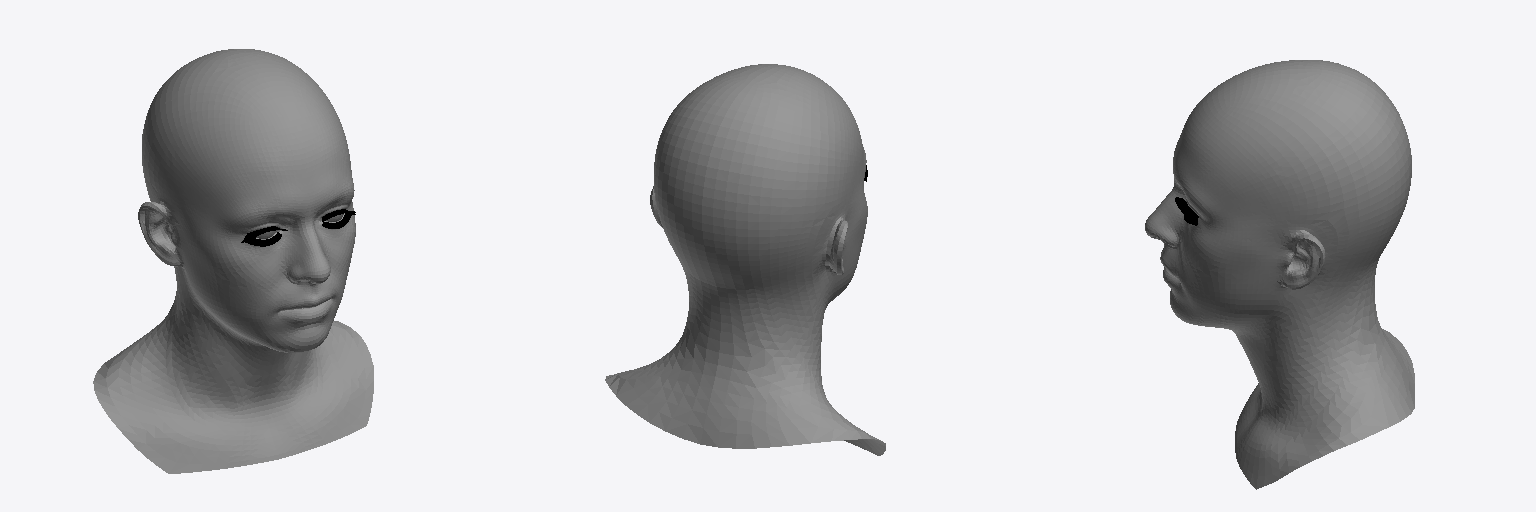
The model's file is identity016.obj.
3 renders of one model, left to right at view 1: azimuth 30°, elevation 25°; view 2: azimuth 150°, elevation 25°; view 3: azimuth 270°, elevation 25°, orthographic.
Bounding box in the file's own units: 24.88 × 33.8 × 22.15.